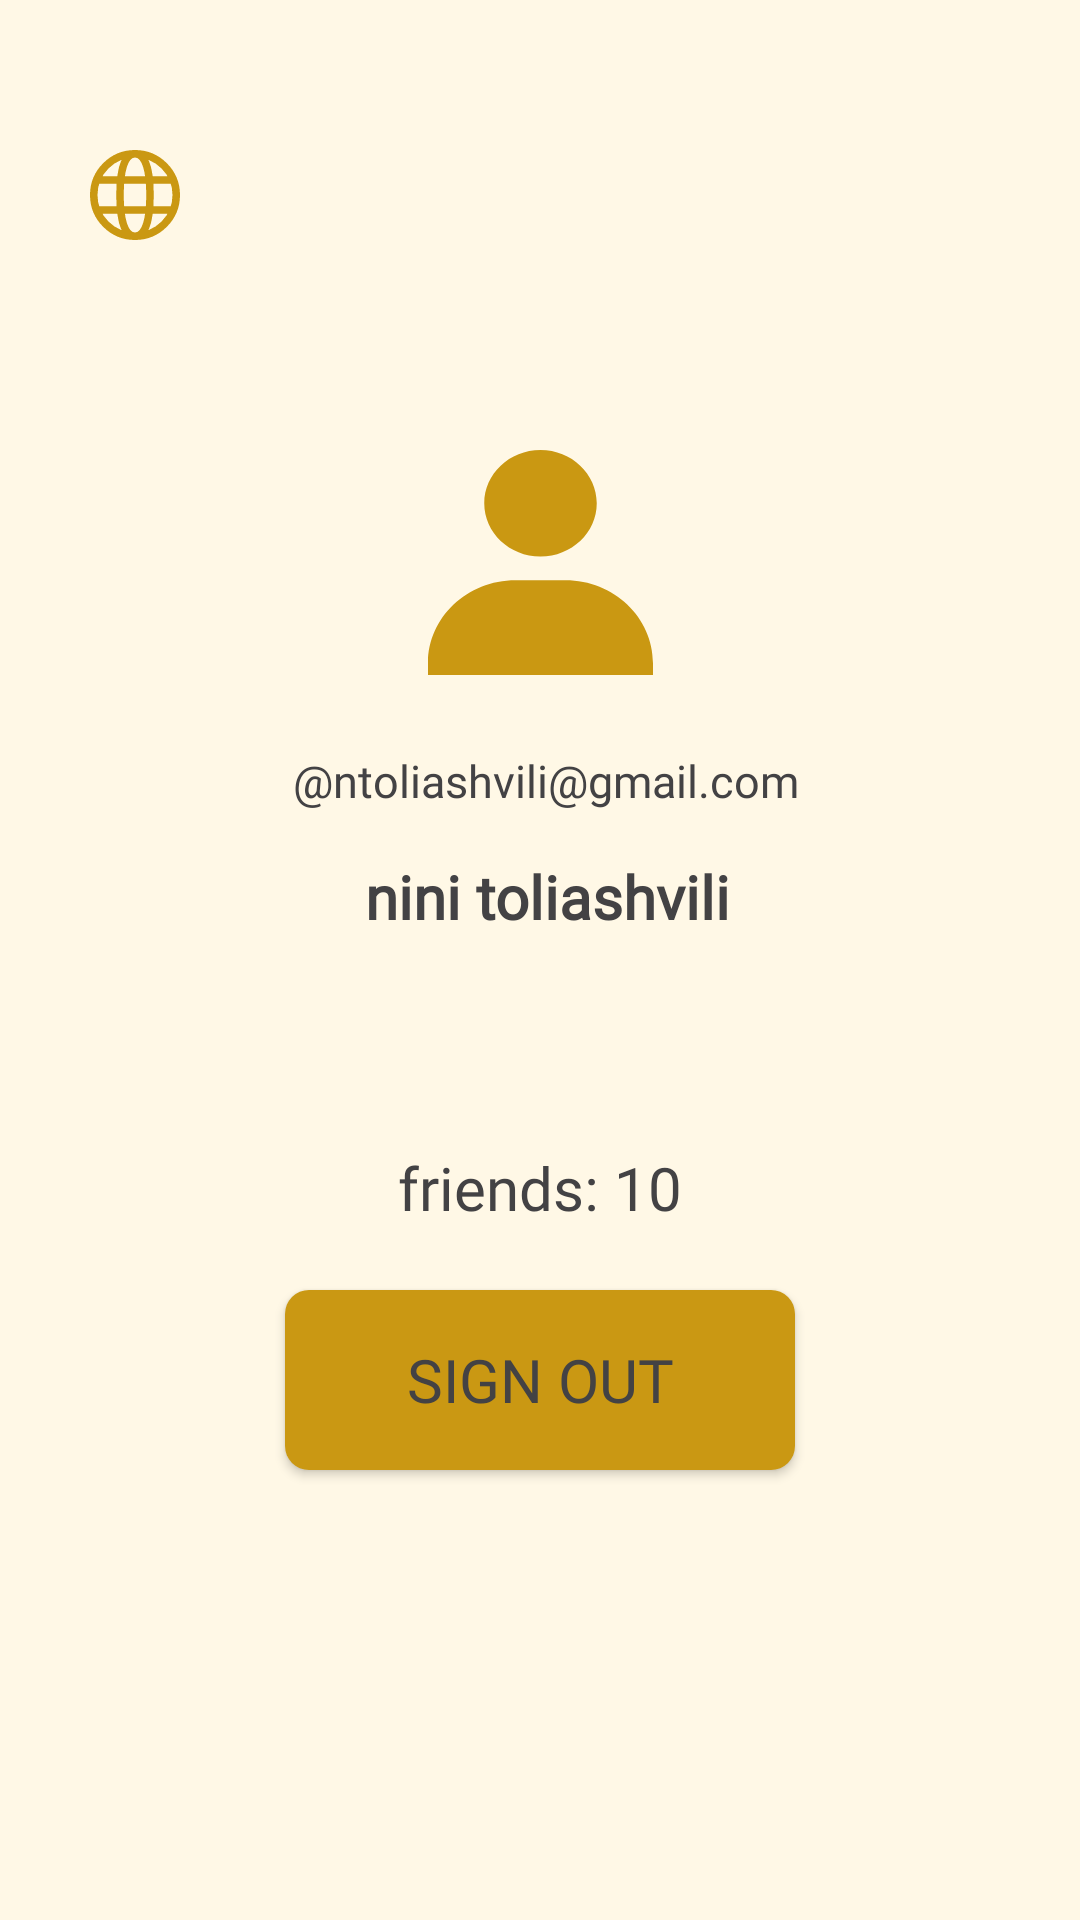

Point at icon controls on the screen. Image size 1080w x 1920h, points as (x,y).
language: (135,195)
profile: (540,562)
